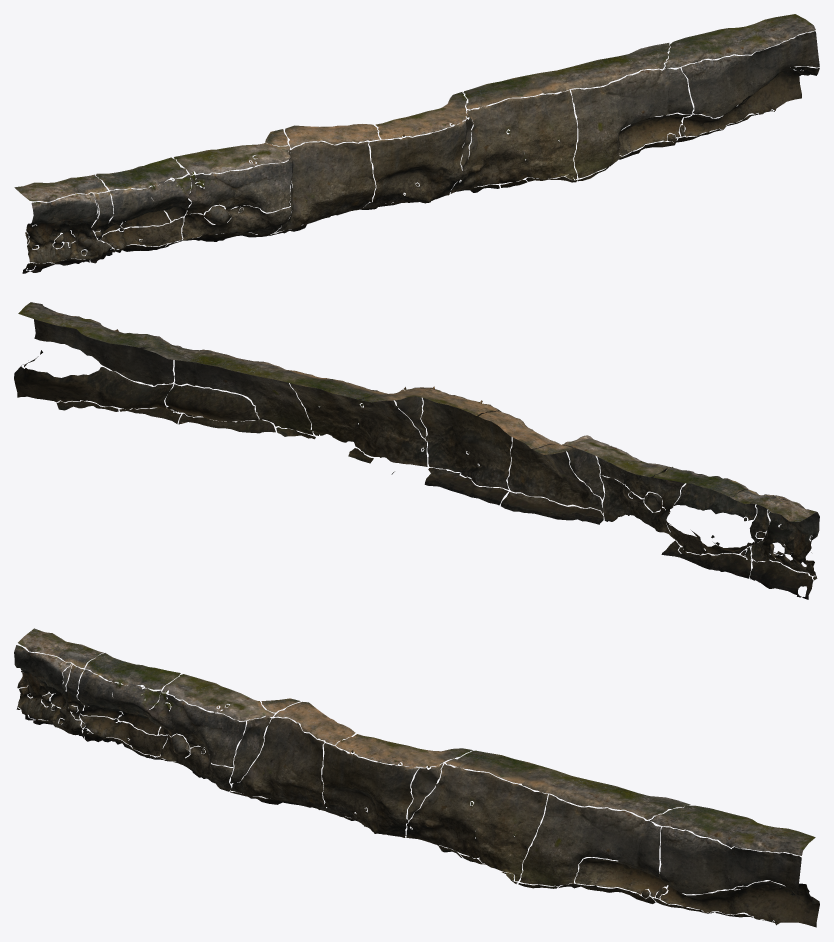
File: coastal_cliff_01.glb
3 renders of one model, top to bottom at view 1: azimuth 30°, elevation 25°; view 2: azimuth 150°, elevation 25°; view 3: azimuth 330°, elevation 25°, orthographic. The views are drawn at different scales.
Visible parts, largest first — view 1: coastal_cliff_01; view 2: coastal_cliff_01; view 3: coastal_cliff_01.
Part boxes in pixels (x1=…): coastal_cliff_01: x1=14, y1=14, x2=819, y2=273; coastal_cliff_01: x1=14, y1=302, x2=819, y2=599; coastal_cliff_01: x1=14, y1=628, x2=819, y2=927.
Bounding box in the file's own units: 91.79 × 10.18 × 10.79.
1 material, 1 textured.
